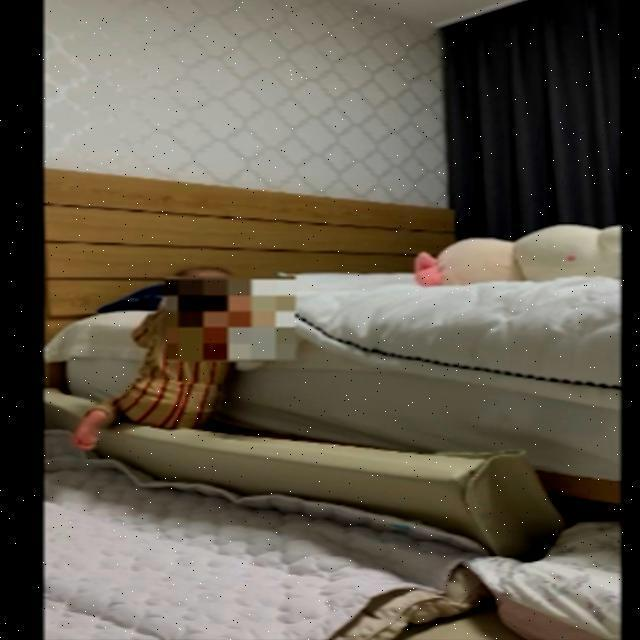child: (69, 267, 256, 452)
